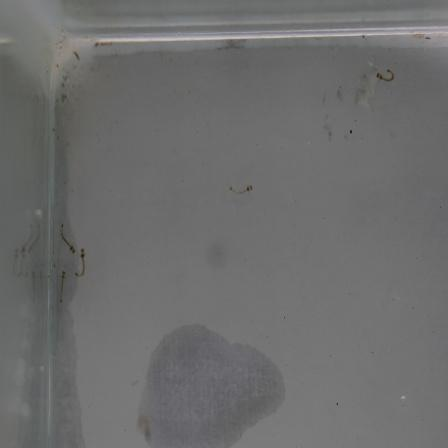Jentik-Nyamuk: (55, 217, 91, 311), (225, 179, 256, 201), (373, 63, 399, 89)
